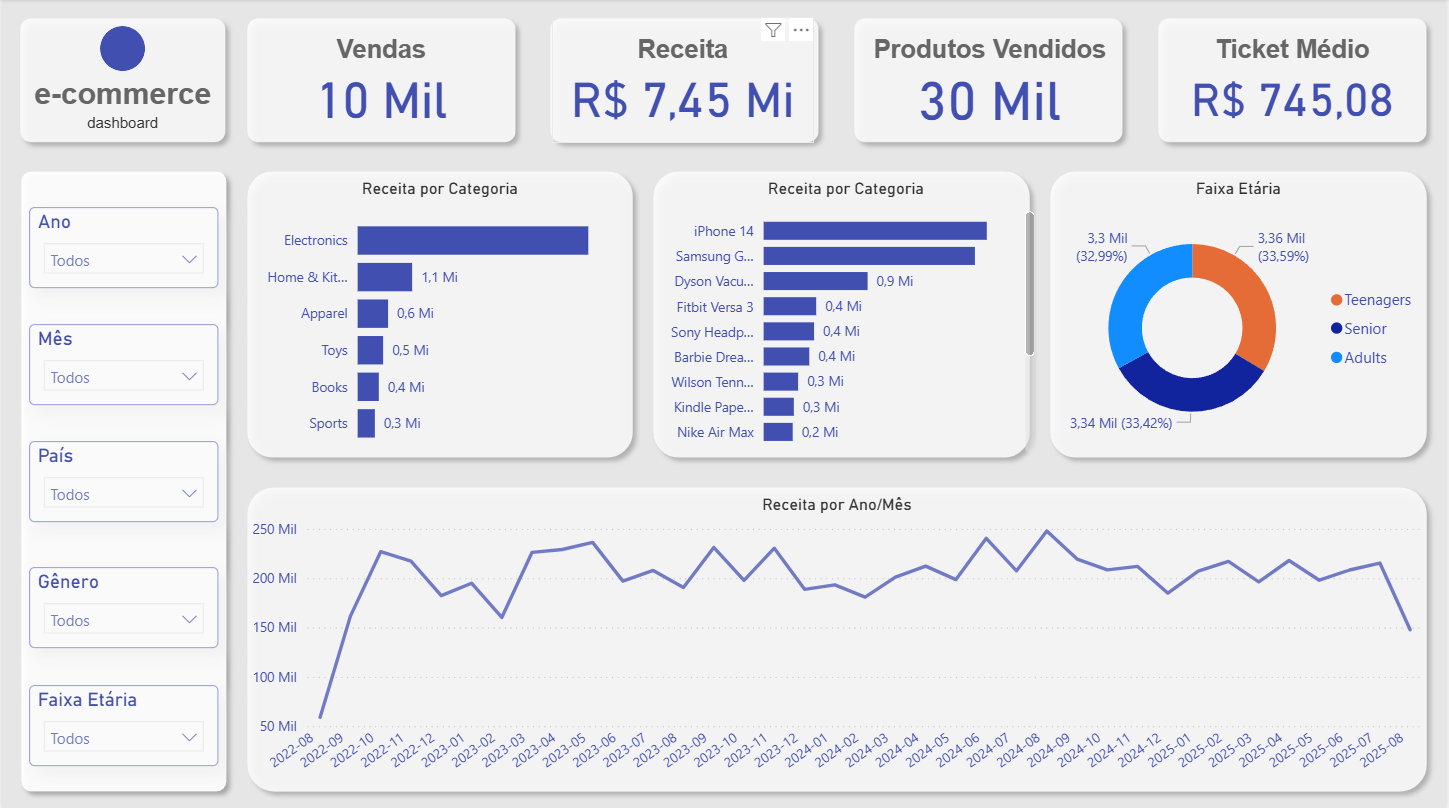

The page's visual inventory and layout, read from the dashboard file:
{"tool":"powerbi","page":{"name":"Página 1","canvas":[1280,720],"ordinal":0},"visuals":[{"type":"shape","box":[8,144,200,568],"z":0},{"type":"shape","box":[208,8,256,128],"z":1000},{"type":"shape","box":[477.3,8,256,128],"z":2000},{"type":"shape","box":[746.7,8,256,128],"z":3000},{"type":"shape","box":[1016,8,256,128],"z":4000},{"type":"shape","box":[208,144,360,272],"z":5000},{"type":"shape","box":[208,424,1064,288],"z":6000},{"type":"shape","box":[568,144,352,272],"z":7000},{"type":"shape","box":[920,144,352,272],"z":8000},{"type":"shape","box":[7.1,8,200,128],"z":9000},{"type":"textbox","box":[15.1,64,184,48],"z":10000},{"type":"textbox","box":[47.1,96,120,32],"z":11000},{"type":"shape","box":[87.1,24,40,40],"z":12000},{"type":"card","title":"Vendas","fields":{"Values":["medidas.total_vendas"]},"box":[216,16,240,112],"z":13000},{"type":"card","title":"Receita","fields":{"Values":["medidas.total_receita"]},"box":[488,16,232,112],"z":14000},{"type":"card","title":"Produtos Vendidos","fields":{"Values":["medidas.qtde_produtos"]},"box":[760,16,232,112],"z":15000},{"type":"card","title":"Ticket Médio","fields":{"Values":["medidas.ticket_medio"]},"box":[1024,16,240,112],"z":16000},{"type":"lineChart","title":"Receita por Ano/Mês","fields":{"Y":["medidas.total_receita"],"Category":["Calendario.year_month"]},"box":[216,440,1048,264],"z":17000},{"type":"slicer","title":"Ano","fields":{"Values":["Calendario.year"]},"box":[24,184,168,72],"z":18000},{"type":"slicer","title":"Mês","fields":{"Values":["Calendario.name_month"]},"box":[24,288,168,72],"z":19000},{"type":"slicer","title":"País","fields":{"Values":["ecommerce_dataset_10000.country"]},"box":[24,392,168,72],"z":20000},{"type":"slicer","title":"Gênero","fields":{"Values":["ecommerce_dataset_10000.gender"]},"box":[24,504,168,72],"z":21000},{"type":"slicer","title":"Faixa Etária","fields":{"Values":["ecommerce_dataset_10000.age_group"]},"box":[24,608,168,72],"z":22000},{"type":"barChart","title":"Receita por Categoria","fields":{"Category":["ecommerce_dataset_10000.category"],"Y":["medidas.total_receita"]},"box":[216,160,344,248],"z":23000},{"type":"barChart","title":"Receita por Categoria","fields":{"Category":["ecommerce_dataset_10000.product_name"],"Y":["medidas.total_receita"]},"box":[576,160,344,248],"z":24000},{"type":"donutChart","title":"Faixa Etária","fields":{"Category":["ecommerce_dataset_10000.age_group"],"Y":["CountNonNull(ecommerce_dataset_10000.age_group)"]},"box":[928,160,336,248],"z":24001}]}

Visuals, with their boxes in screenshot pixels (x1, y1, x2, y2), scaled from the page's 1280x720 canvas onto the 1449x808 screenshot:
shape: l=9, t=162, r=235, b=799
shape: l=235, t=9, r=525, b=153
shape: l=540, t=9, r=830, b=153
shape: l=845, t=9, r=1135, b=153
shape: l=1150, t=9, r=1440, b=153
shape: l=235, t=162, r=643, b=467
shape: l=235, t=476, r=1440, b=799
shape: l=643, t=162, r=1041, b=467
shape: l=1041, t=162, r=1440, b=467
shape: l=8, t=9, r=234, b=153
textbox: l=17, t=72, r=225, b=126
textbox: l=53, t=108, r=189, b=144
shape: l=99, t=27, r=144, b=72
"Vendas" card: l=245, t=18, r=516, b=144
"Receita" card: l=552, t=18, r=815, b=144
"Produtos Vendidos" card: l=860, t=18, r=1123, b=144
"Ticket Médio" card: l=1159, t=18, r=1431, b=144
"Receita por Ano/Mês" lineChart: l=245, t=494, r=1431, b=790
"Ano" slicer: l=27, t=206, r=217, b=287
"Mês" slicer: l=27, t=323, r=217, b=404
"País" slicer: l=27, t=440, r=217, b=521
"Gênero" slicer: l=27, t=566, r=217, b=646
"Faixa Etária" slicer: l=27, t=682, r=217, b=763
"Receita por Categoria" barChart: l=245, t=180, r=634, b=458
"Receita por Categoria" barChart: l=652, t=180, r=1041, b=458
"Faixa Etária" donutChart: l=1051, t=180, r=1431, b=458
